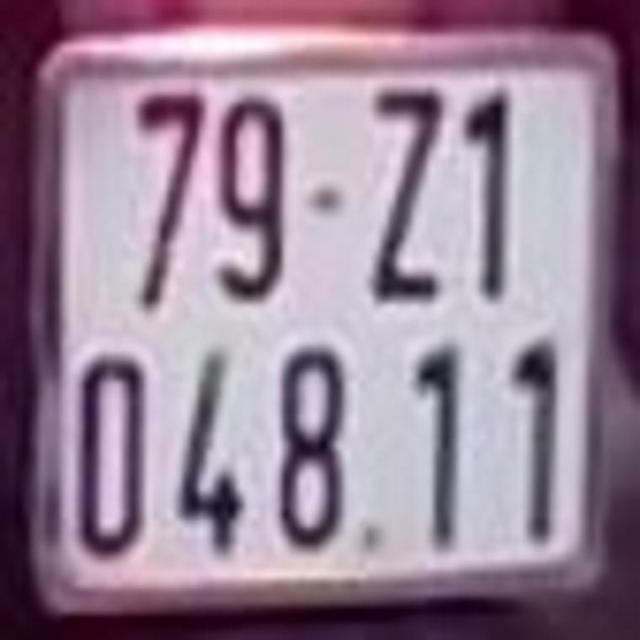0: (78, 346, 145, 553)
1: (419, 335, 464, 536), (465, 90, 507, 296), (518, 343, 558, 544)
4: (179, 351, 244, 553)
7: (138, 99, 211, 308)
8: (280, 345, 337, 544)
9: (220, 100, 280, 306)
Z: (375, 87, 437, 292)
